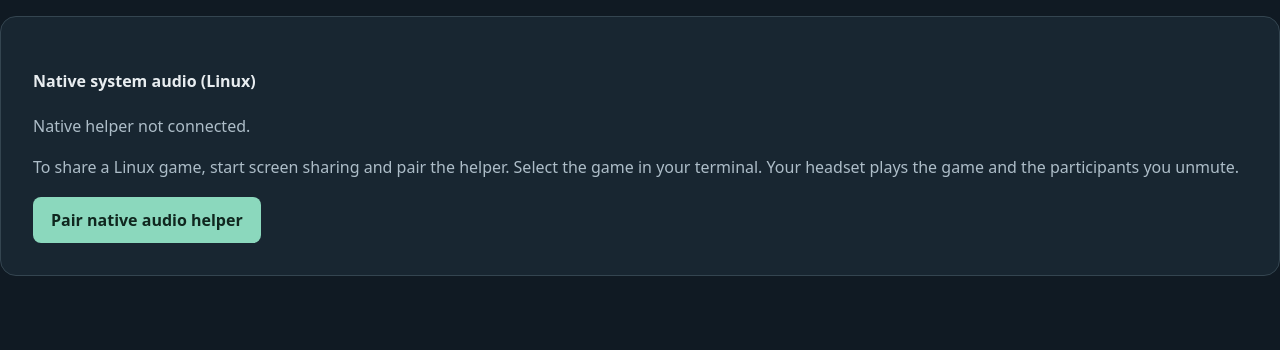
Test case: late pairing after screen stop is revoked instead of displayed
The width and height of the screenshot is (1280, 350).
Click the button "Pair native audio helper" at (147, 220), box 33,197 -> 261,243
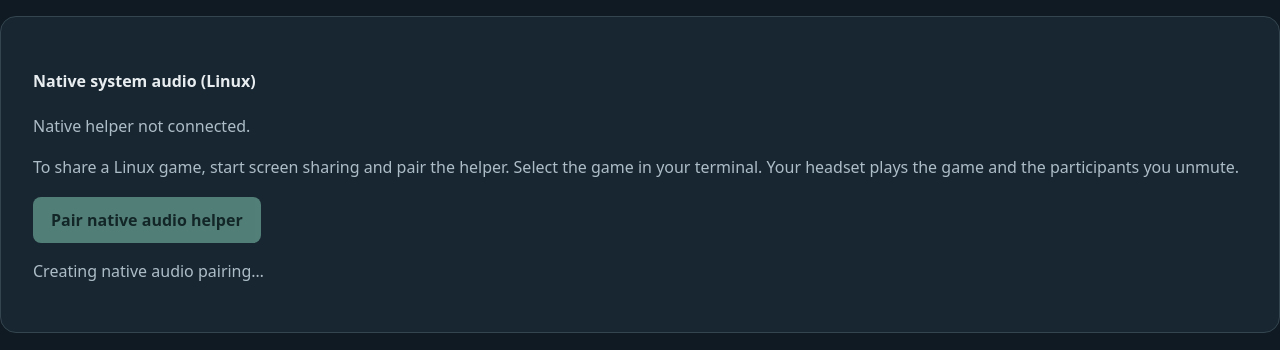
Result: the button "Pair native audio helper" is disabled at 33,197 -> 261,243
